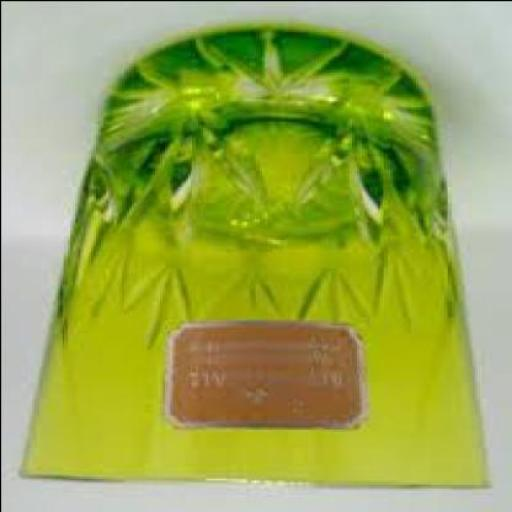glass: (21, 31, 491, 491)
